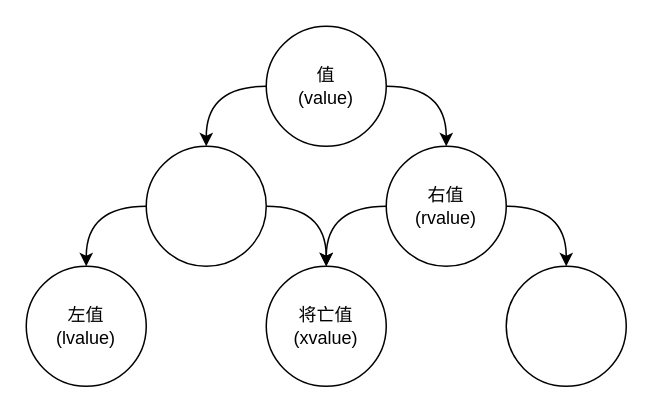
This 653x413 diagram has some shape labels left out. The shapes that lost their labels are listed below. From the top down, each one's centre as x and y in pixels, then its label:
At [205,205]: "广义左值 (glvalue)".
At [565,325]: "纯右值 (prvalue)".
